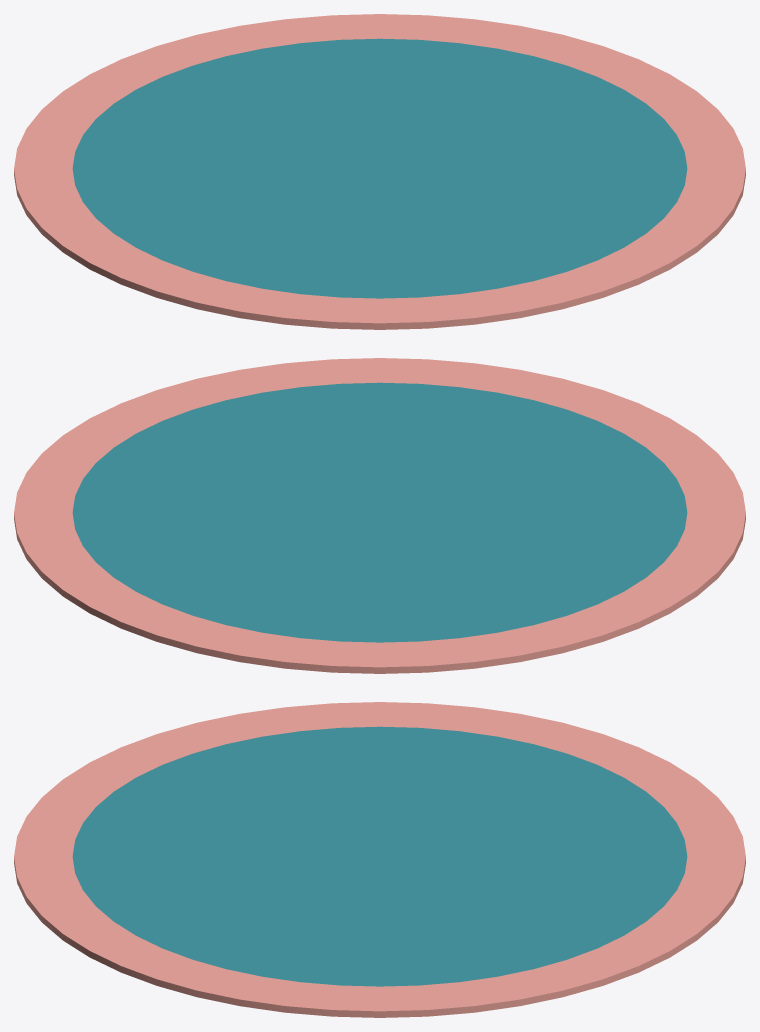
File: bb_set_rug_round.fbx
3 renders of one model, top to bottom at view 1: azimuth 30°, elevation 25°; view 2: azimuth 150°, elevation 25°; view 3: azimuth 270°, elevation 25°, orthographic.
Parts seen in each view (by area): view 1: bb_set_rug_round; view 2: bb_set_rug_round; view 3: bb_set_rug_round.
Part boxes in pixels (x1,y1,x2,y2): bb_set_rug_round: (14, 14, 745, 329); bb_set_rug_round: (14, 358, 745, 673); bb_set_rug_round: (14, 702, 745, 1017).
Size of the model in its own units: 1 by 0.01 by 1.
